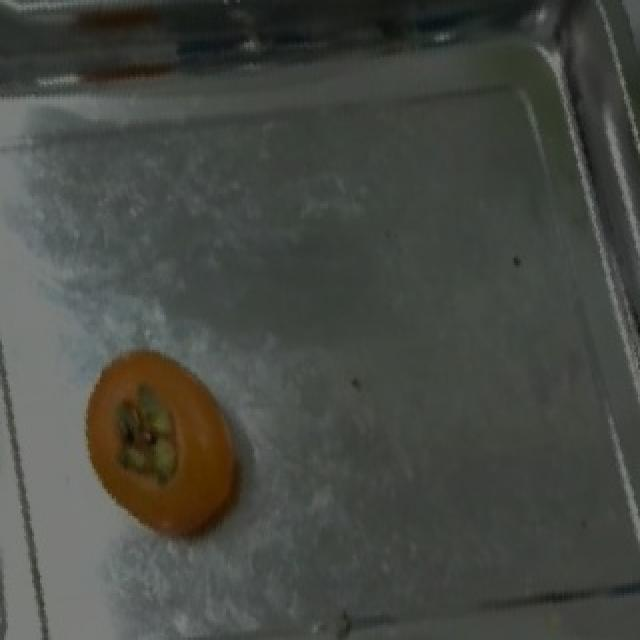Fruit: (66, 335, 252, 556)
